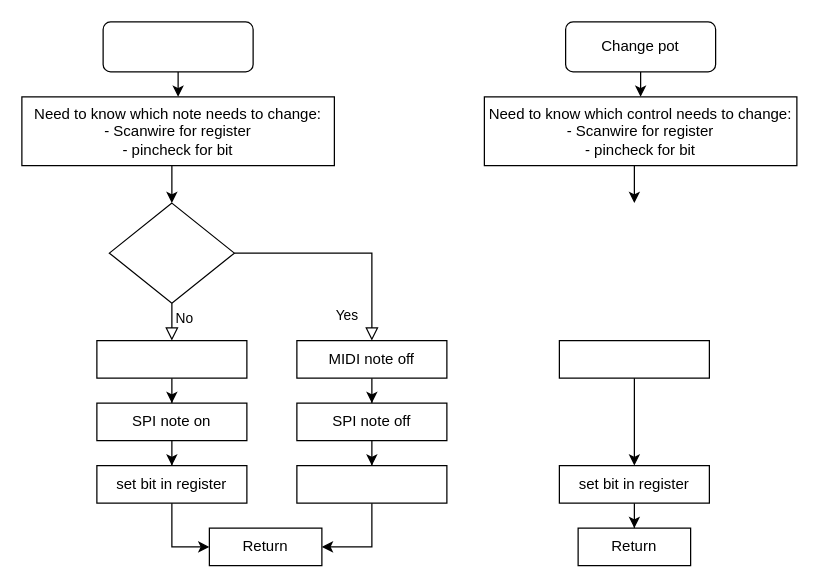
This 819x588 diagram has some shape labels left out. The shapes that lost their labels are listed below. From the top down, each one's centre as x and y in pixels, then its label:
point 177,46: Change knob
point 171,252: P2_data.y = 0
point 171,358: MIDI note on
point 633,358: MIDI Control change
point 371,483: Clear bit in register
